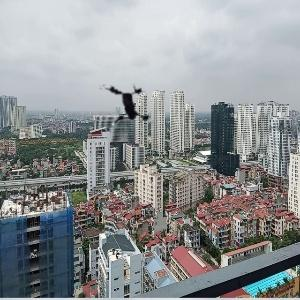drone: (88, 73, 163, 148)
